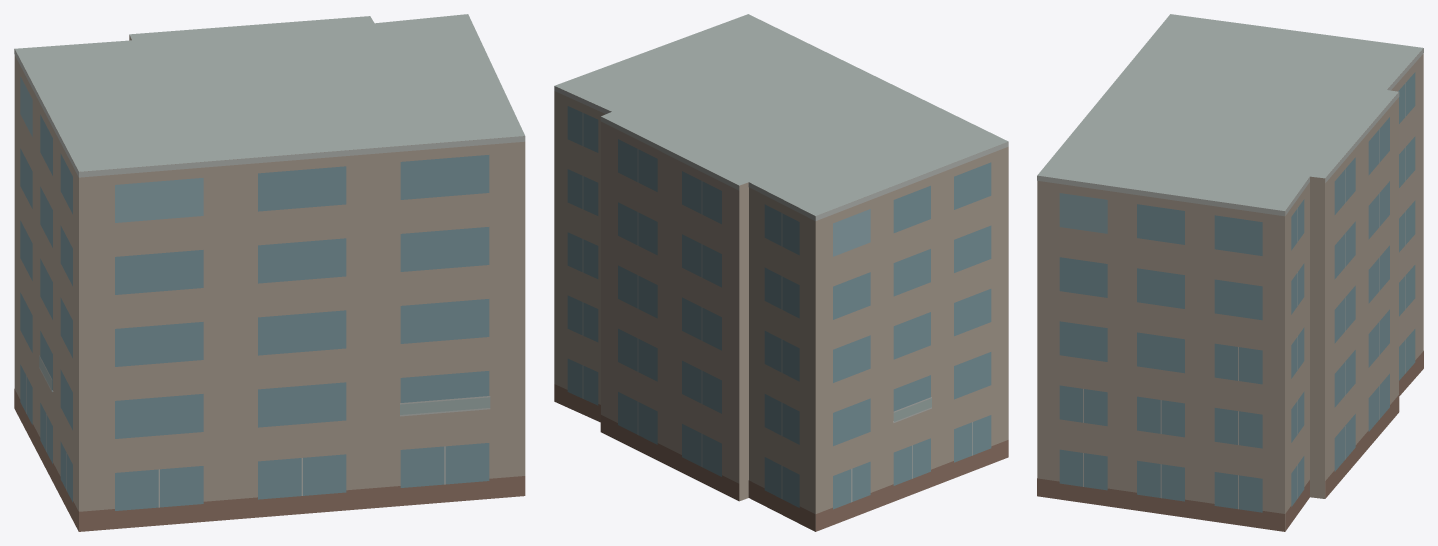
The model's file is survey-upis-32700802.glb.
The picture shows the model from 3 angles, left to right: view 1: azimuth 30°, elevation 25°; view 2: azimuth 150°, elevation 25°; view 3: azimuth 270°, elevation 25°; orthographic projection. The views are drawn at different scales.
Parts seen in each view (by area): view 1: survey-upis-32700802.tmp; view 2: survey-upis-32700802.tmp; view 3: survey-upis-32700802.tmp.
Boxes of the visible parts, x1,y1,x2,y2 form: survey-upis-32700802.tmp: (14,14,525,531); survey-upis-32700802.tmp: (554,14,1008,531); survey-upis-32700802.tmp: (1037,14,1423,531).
Size of the model in its own units: 20.05 by 15.2 by 16.62.
